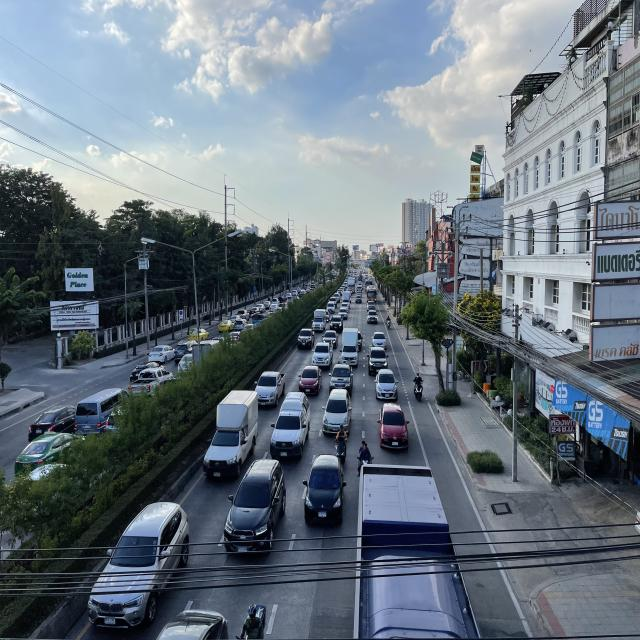bike: (235, 600, 266, 640), (335, 422, 348, 464), (357, 440, 372, 476), (414, 370, 423, 404)
bus: (354, 461, 482, 640)
car: (87, 503, 191, 628), (224, 458, 288, 558), (303, 454, 347, 530), (377, 402, 410, 453), (322, 389, 352, 437), (254, 369, 287, 408), (374, 368, 399, 401), (298, 366, 322, 396), (329, 364, 353, 394)
truck: (202, 389, 258, 483), (270, 391, 311, 461), (340, 327, 360, 369), (311, 338, 333, 372), (311, 309, 326, 333), (342, 291, 350, 310)
